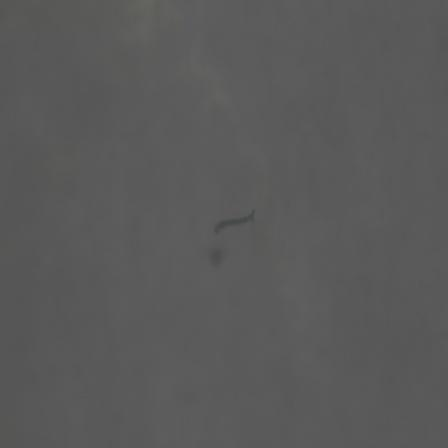Jentik-Nyamuk: (209, 203, 261, 237)
